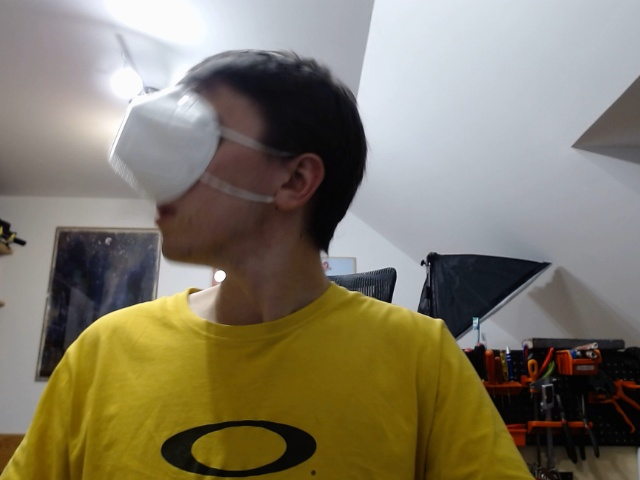WrongMask: (111, 46, 365, 279)
